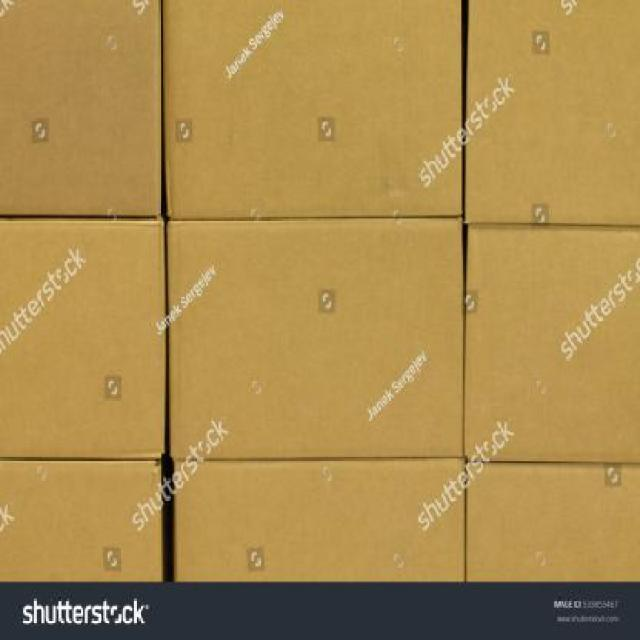BoxFace: (167, 218, 466, 456), (163, 0, 463, 212), (463, 230, 640, 461), (0, 218, 166, 456), (463, 0, 640, 223), (172, 458, 466, 586), (0, 0, 160, 215), (0, 452, 165, 585), (467, 463, 638, 579)
